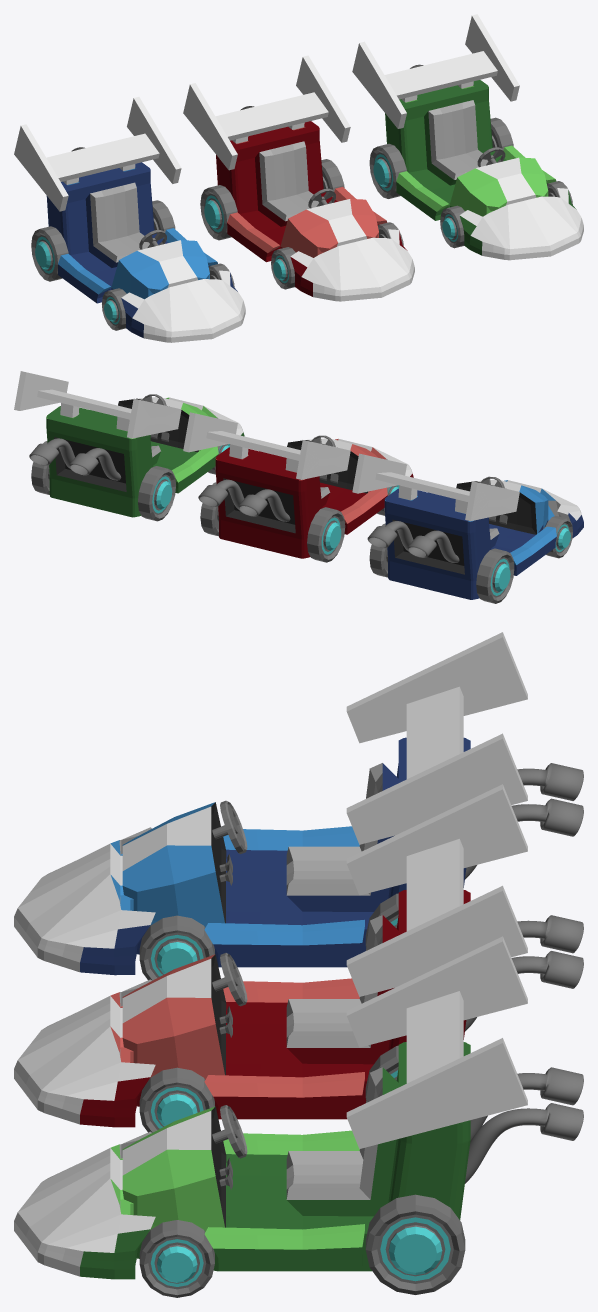
File: Karts.fbx
The picture shows the model from 3 angles, top to bottom: view 1: azimuth 30°, elevation 25°; view 2: azimuth 150°, elevation 25°; view 3: azimuth 270°, elevation 25°; orthographic projection. The views are drawn at different scales.
Parts seen in each view (by area): view 1: Cylinder.001, Cylinder, Cube.003; view 2: Cylinder.001, Cylinder, Cube.003; view 3: Cube.003, Cylinder.001, Cylinder.
Boxes of the visible parts, box(x1,y1,x2,y2) form: Cylinder.001: box(14, 97, 245, 342); Cylinder: box(183, 55, 414, 301); Cube.003: box(352, 14, 583, 260); Cylinder.001: box(352, 453, 583, 603); Cylinder: box(183, 412, 413, 562); Cube.003: box(14, 371, 244, 521); Cube.003: box(14, 936, 583, 1297); Cylinder.001: box(14, 632, 583, 980); Cylinder: box(14, 784, 583, 1132).
Size of the model in its own units: 1645 by 474 by 950.
